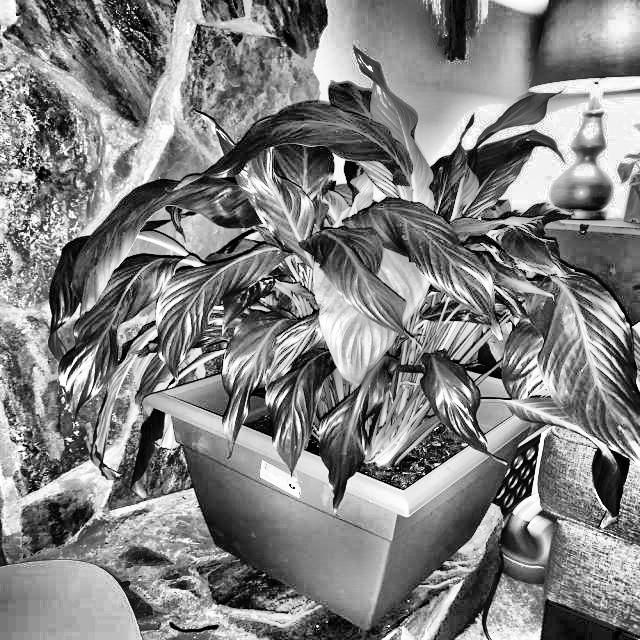plants: (18, 152, 640, 622)
